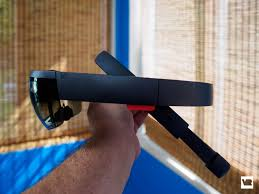hololens: (28, 61, 214, 134)
